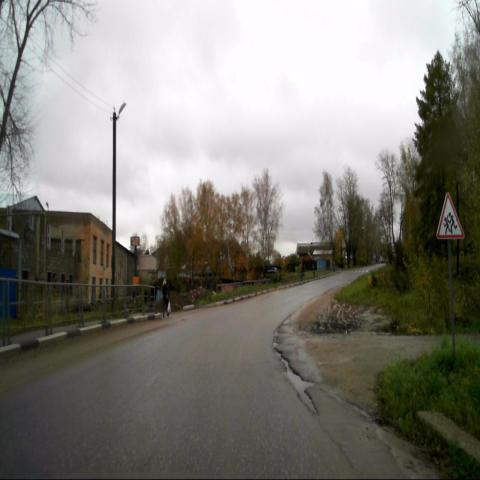1_23: (436, 192, 464, 241)
